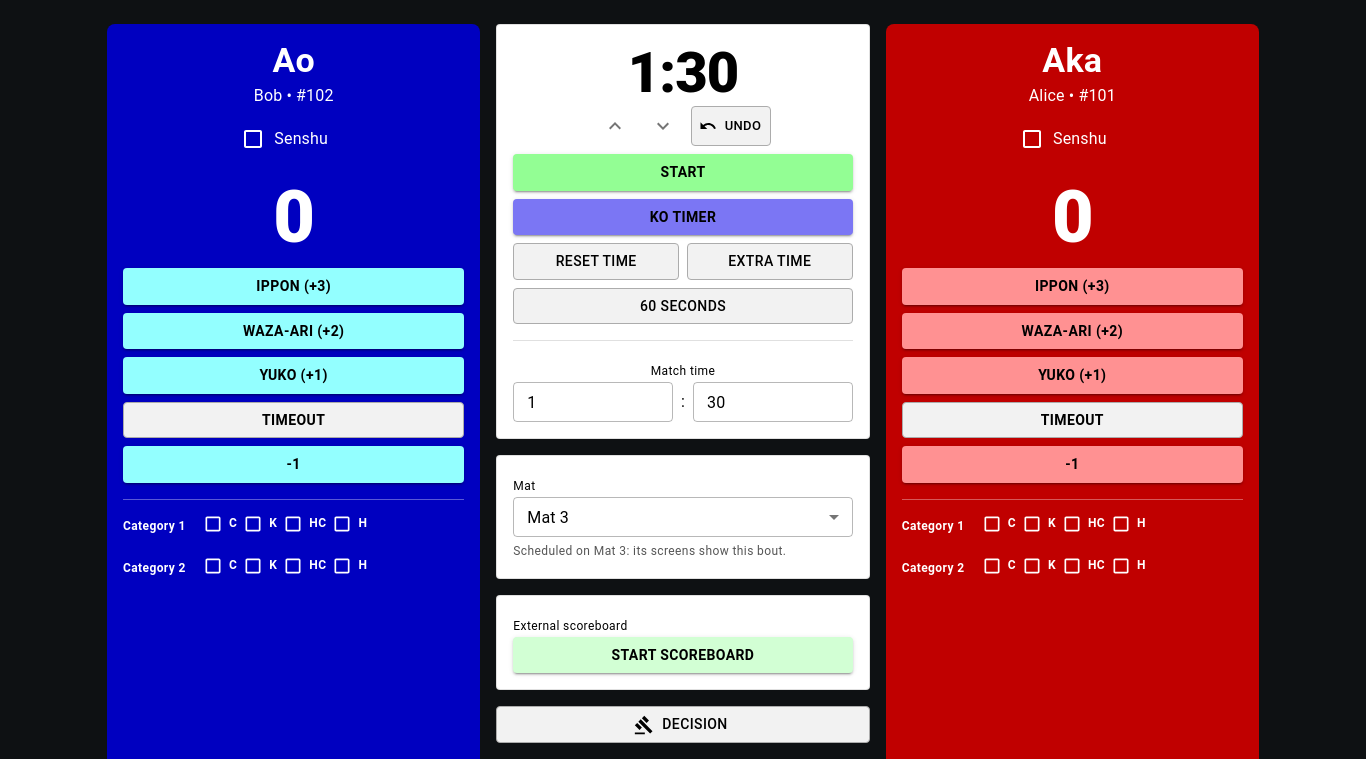
Test: the mat this console scores › leaves it where it was when that is cancelled
Click the dropdown labelled "Mat": [548, 517] box [527, 508, 569, 527]
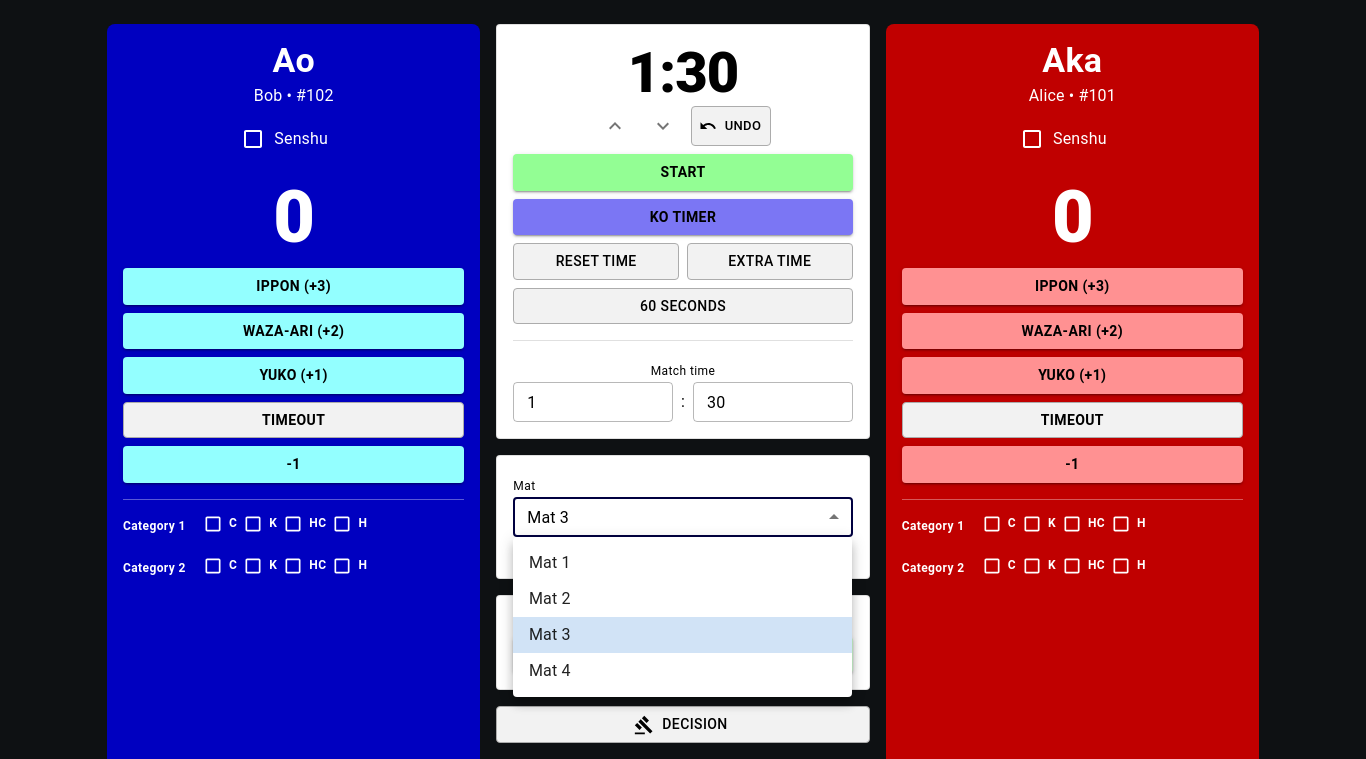
Click the option "Mat 2": [550, 598] box [529, 589, 571, 608]
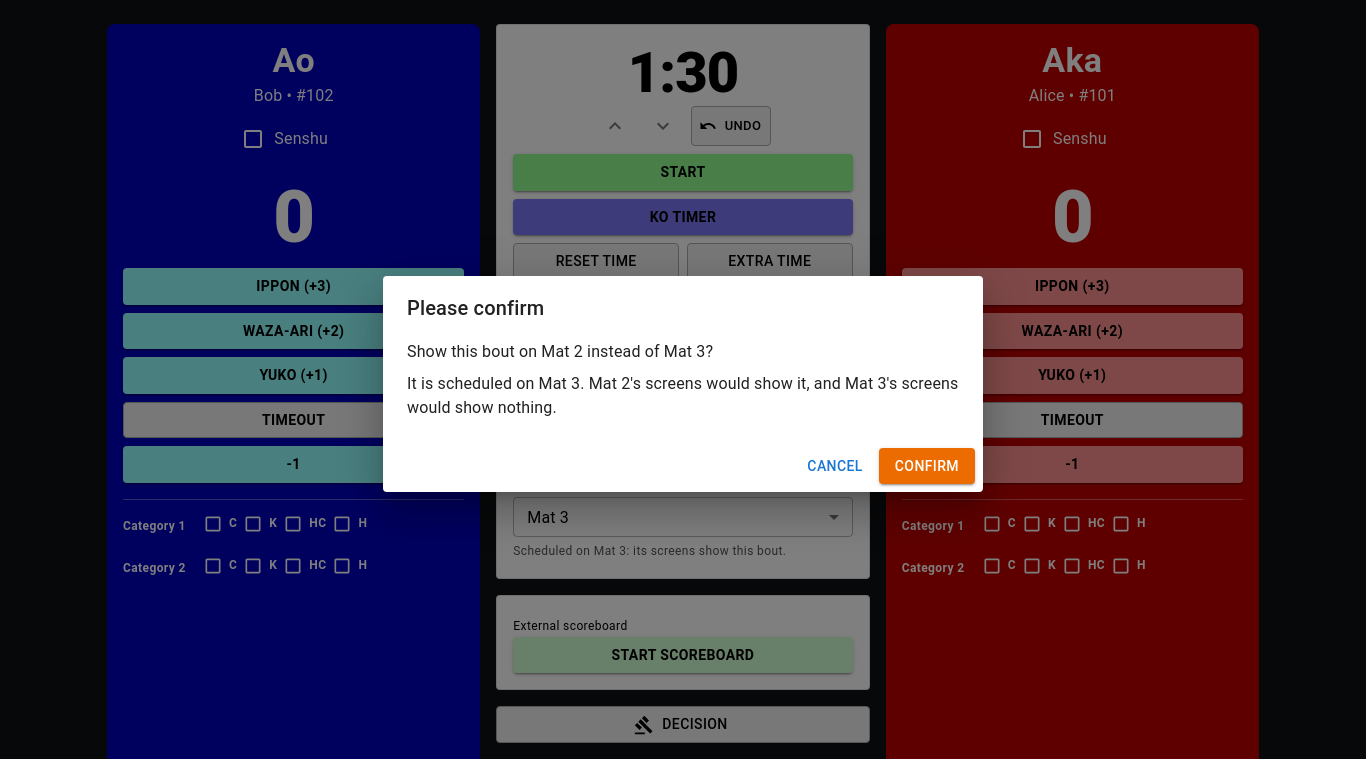
Click the button "Cancel": [835, 466] box [799, 448, 871, 484]
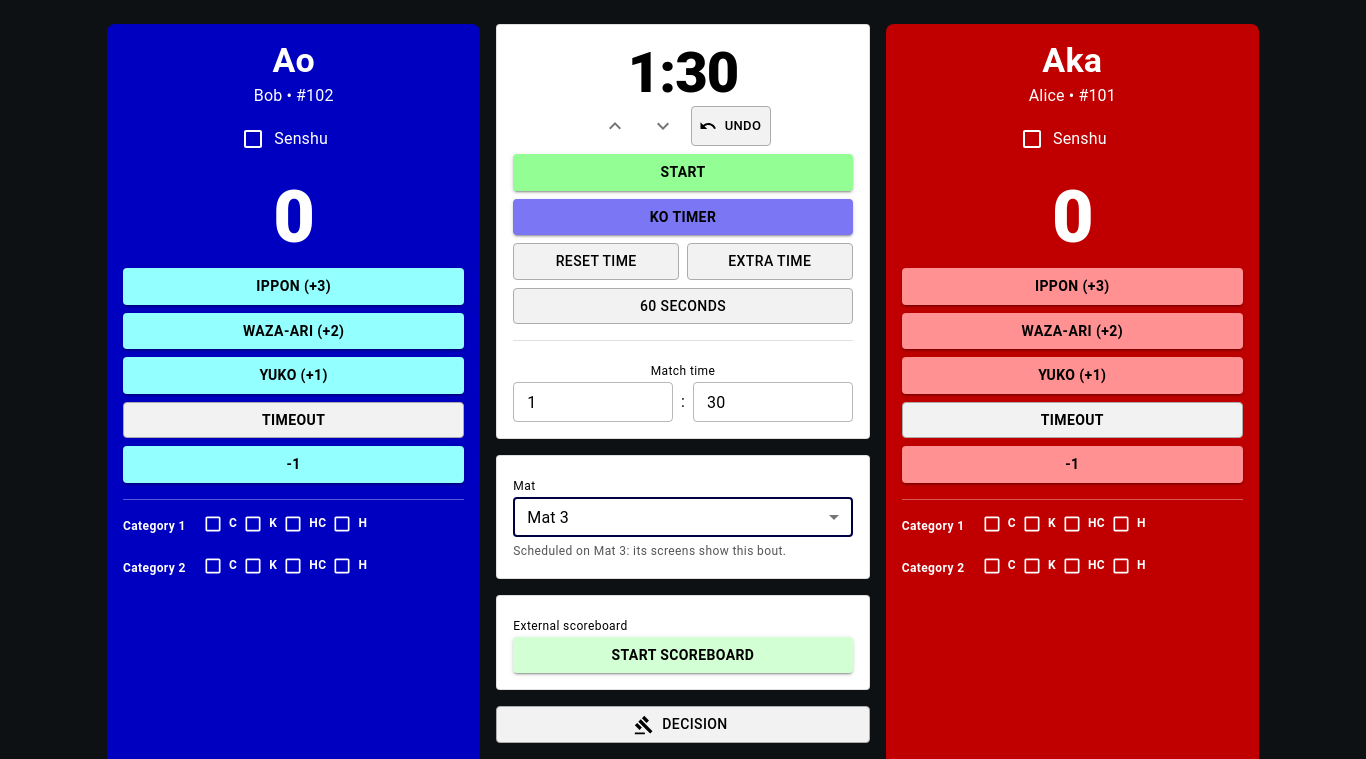
Expected: the dropdown labelled "Mat" reads "Mat 3", [527, 508, 569, 527]
Now the dialog is gone
